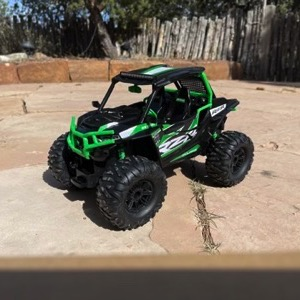polaris: (47, 63, 256, 232)
